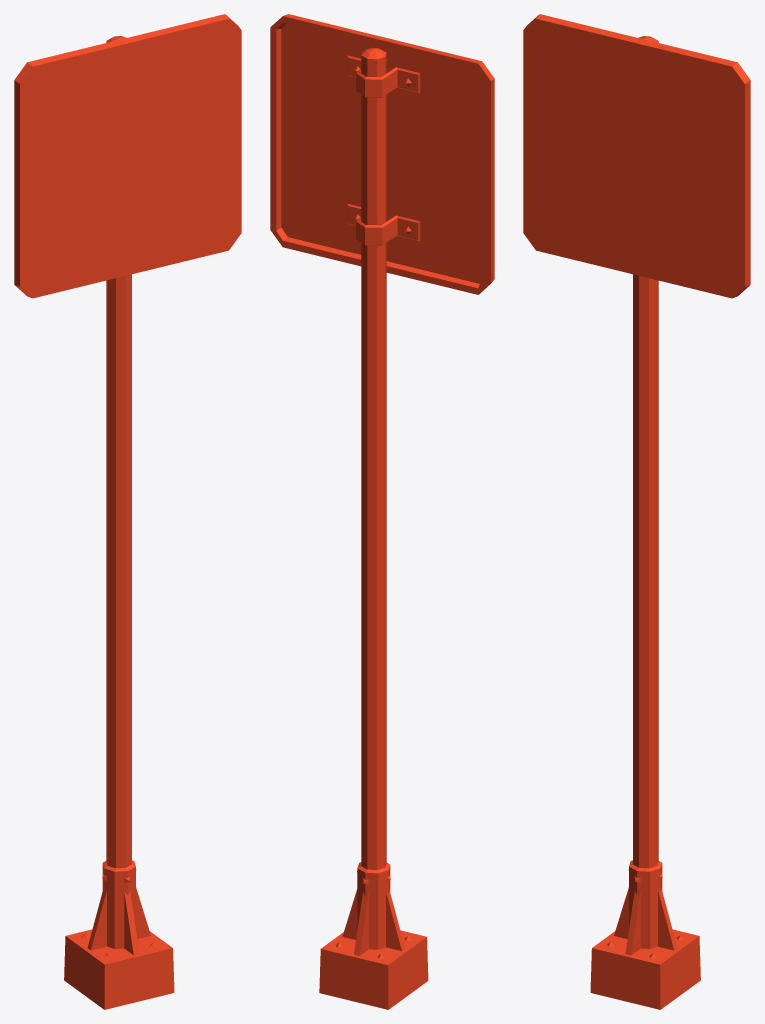
File: SM_Sign_Emergency_B_City.fbx
The picture shows the model from 3 angles, left to right: view 1: azimuth 30°, elevation 25°; view 2: azimuth 150°, elevation 25°; view 3: azimuth 330°, elevation 25°; orthographic projection.
Parts seen in each view (by area): view 1: SM_Sign_Emergency_B_City; view 2: SM_Sign_Emergency_B_City; view 3: SM_Sign_Emergency_B_City.
Boxes of the visible parts, x1=… form: SM_Sign_Emergency_B_City: x1=14, y1=14, x2=241, y2=1009; SM_Sign_Emergency_B_City: x1=270, y1=14, x2=494, y2=1009; SM_Sign_Emergency_B_City: x1=523, y1=14, x2=750, y2=1009.
Size of the model in its own units: 0.5876 by 2.39 by 0.1839.
